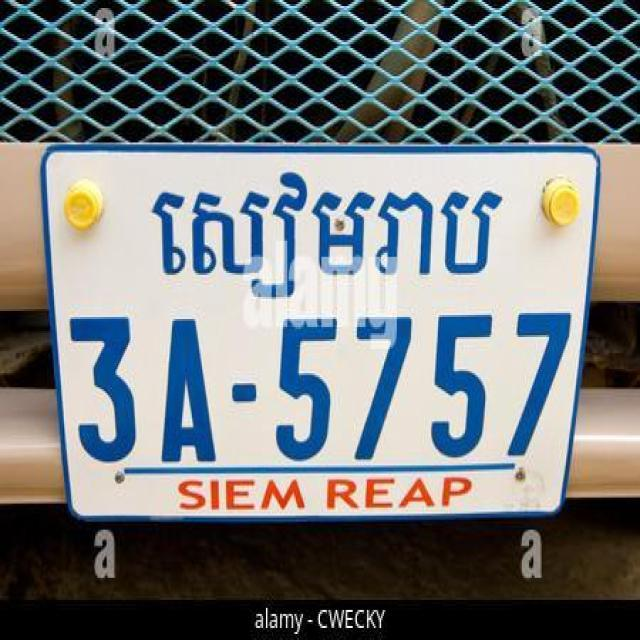Siem_Reap: (144, 168, 509, 306)
